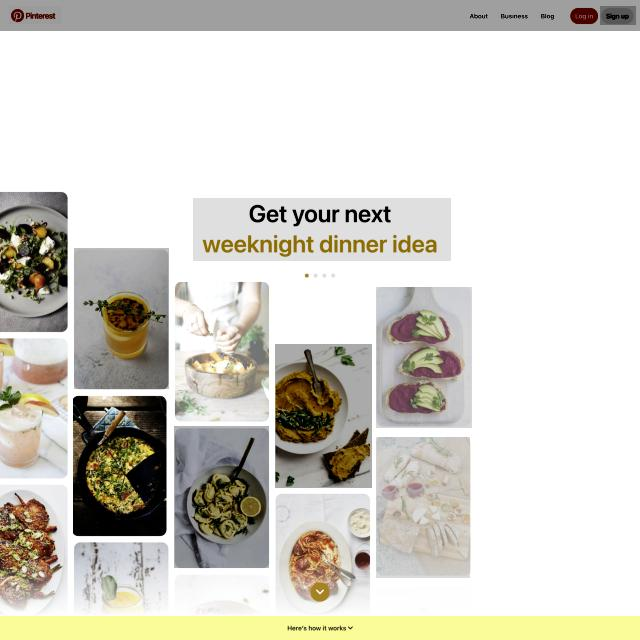CheckBox: (600, 6, 636, 25), (567, 6, 599, 25)
bag: (0, 0, 640, 31)
copy: (275, 344, 372, 488), (74, 395, 170, 537), (174, 280, 270, 422), (376, 288, 472, 430), (174, 426, 269, 568), (74, 248, 169, 389), (376, 438, 470, 580)
date picker: (9, 6, 62, 24)
decoration: (464, 6, 562, 25)
image: (193, 198, 451, 261)
